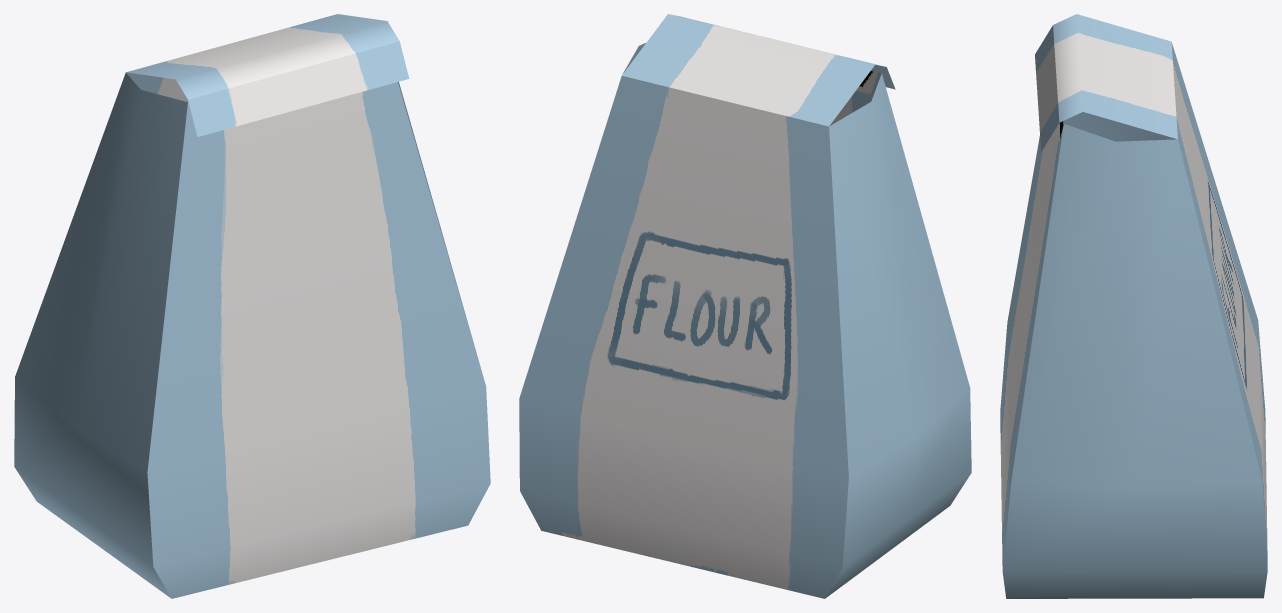
The model's file is flour.fbx.
3 views of the same model, side by side, from view 1: azimuth 30°, elevation 25°; view 2: azimuth 150°, elevation 25°; view 3: azimuth 270°, elevation 25° (orthographic). The views are drawn at different scales.
Parts seen in each view (by area): view 1: flour; view 2: flour; view 3: flour.
Part boxes in pixels (left/top/right/bottom): flour: left=14, top=14, right=490, bottom=598; flour: left=519, top=14, right=971, bottom=598; flour: left=1000, top=14, right=1267, bottom=598.
Bounding box in the file's own units: 31.88 × 41.13 × 21.32.
Materials: 1 (1 with a texture image).
